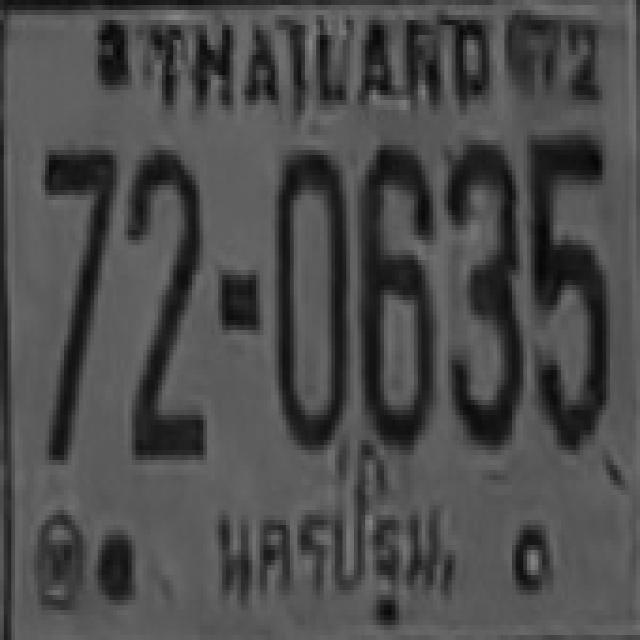0: (271, 145, 346, 445)
2: (126, 148, 202, 408), (128, 202, 203, 452)
3: (444, 140, 520, 445)
5: (527, 130, 606, 445), (527, 130, 606, 385)
6: (358, 142, 433, 442)
7: (41, 145, 117, 340)
NakhonPathom: (202, 488, 457, 633)
